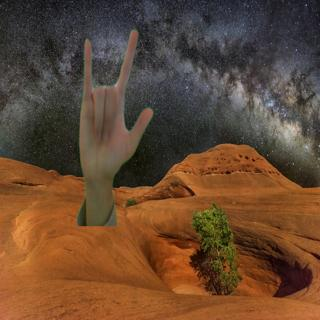ILY: (74, 26, 156, 188)
